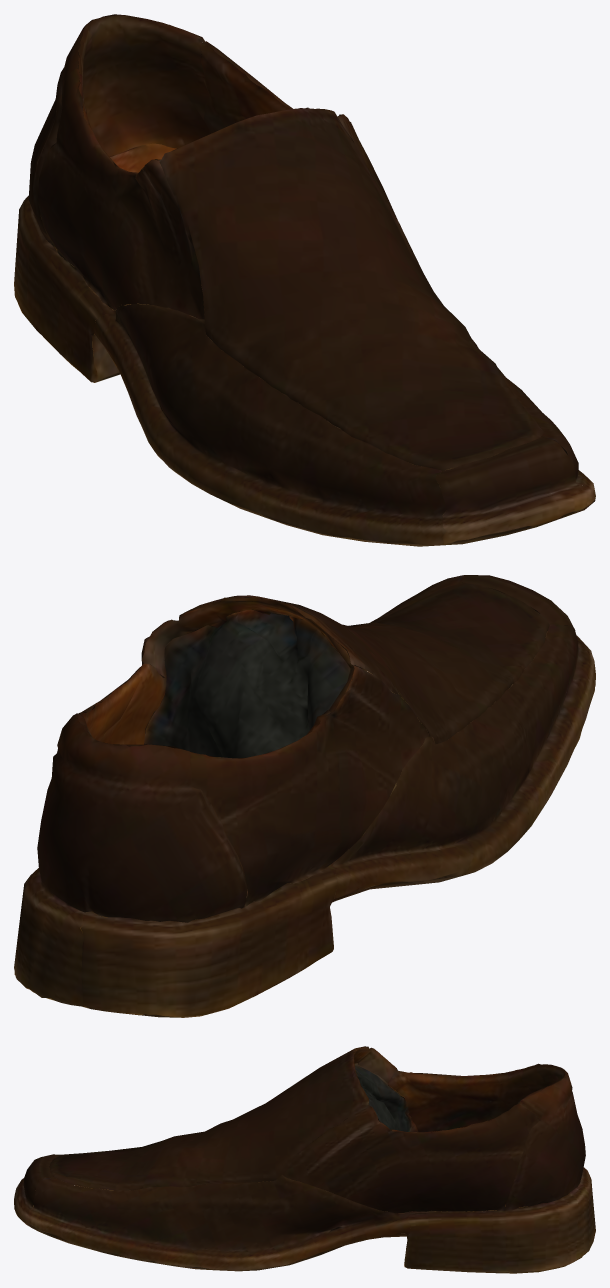
The model's file is oxford.glb.
The picture shows the model from 3 angles, top to bottom: view 1: azimuth 30°, elevation 25°; view 2: azimuth 150°, elevation 25°; view 3: azimuth 270°, elevation 25°; orthographic projection. The views are drawn at different scales.
Visible parts, largest first — view 1: shoe; view 2: shoe; view 3: shoe.
Boxes of the visible parts, x1,y1,x2,y2 form: shoe: [14, 14, 595, 546]; shoe: [14, 575, 595, 1017]; shoe: [14, 1046, 595, 1273].
Bounding box in the file's own units: 0.1076 × 0.1014 × 0.29.
1 material, 1 textured.
